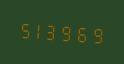five: (17, 16, 30, 41)
nine: (60, 19, 73, 44), (88, 21, 101, 46)
one: (31, 17, 44, 42)
six: (74, 20, 87, 45)
three: (46, 18, 59, 43)
